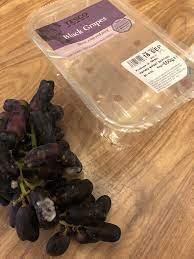Grape Overripe: (0, 80, 120, 255)
